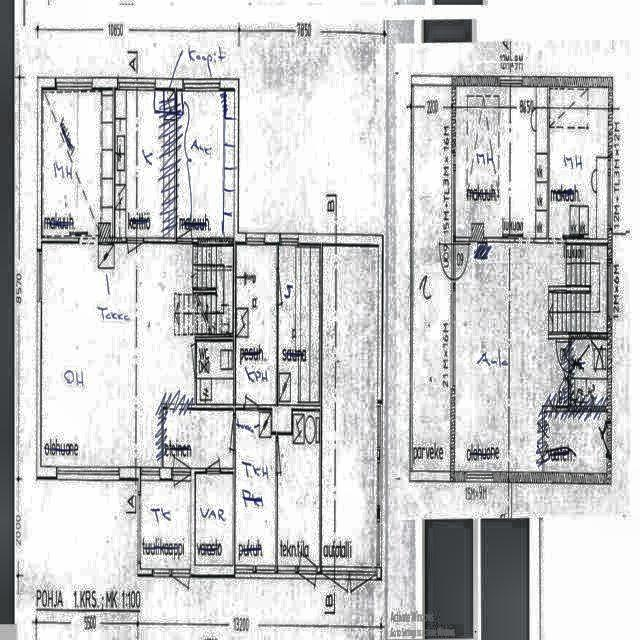room: (321, 246, 379, 567), (412, 86, 452, 471), (456, 87, 547, 239), (42, 89, 113, 237), (549, 87, 608, 240), (115, 90, 175, 238), (176, 90, 235, 239), (235, 243, 278, 405), (277, 410, 320, 567), (278, 246, 320, 402), (235, 409, 276, 565), (141, 481, 191, 570), (163, 409, 233, 469), (544, 412, 607, 473), (195, 473, 233, 566), (196, 341, 234, 404), (571, 341, 607, 407)
